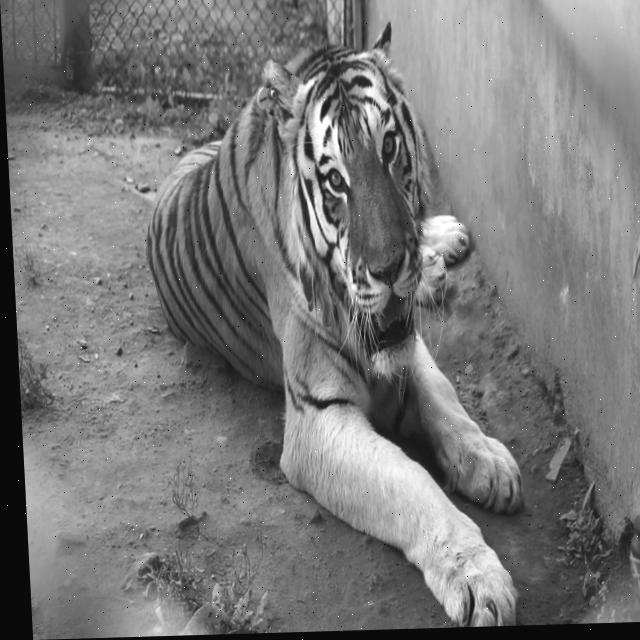Tiger: (133, 17, 531, 635)
